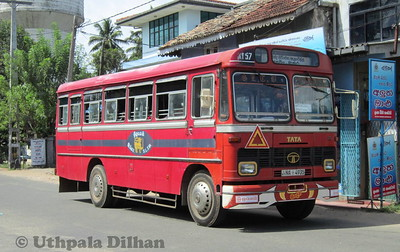bus: (54, 44, 340, 226)
